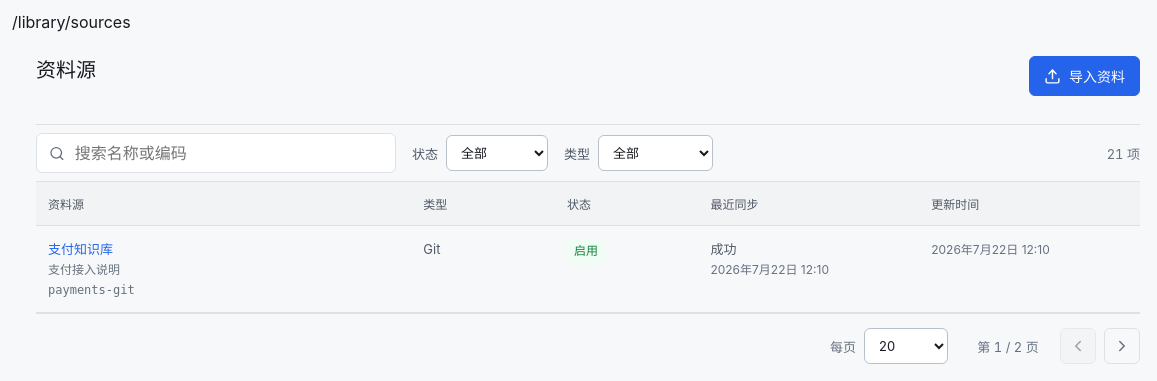
Scenario: source list page › writes filters and page changes to the URL and request
This screenshot has width=1157, height=381.
expect the link "支付知识库" is shown: met, box [48,239,113,259]
Type "git" into the search field named "搜索资料源" at (228, 153), box [73,135,383,171]
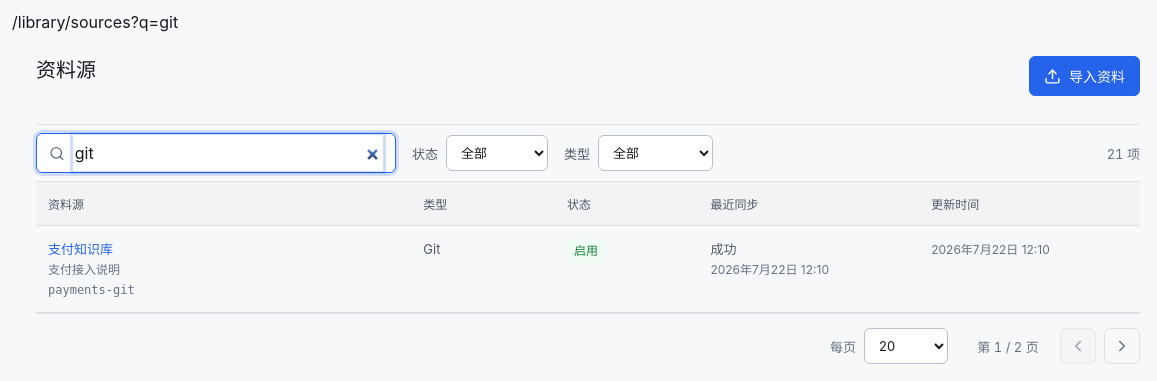
Select "停用" in the dropdown labelled "状态" at (497, 153), box [446,135,548,171]
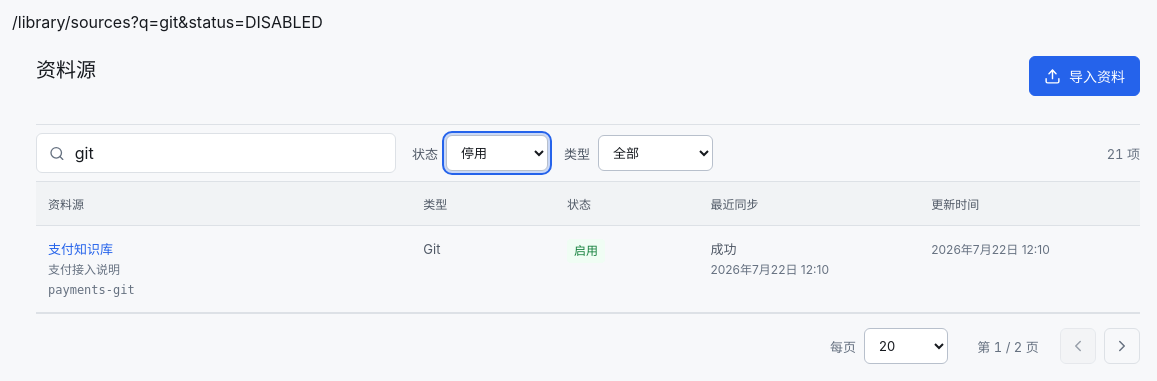
Select "内部镜像" in the dropdown labelled "类型" at (656, 153), box [598,135,713,171]
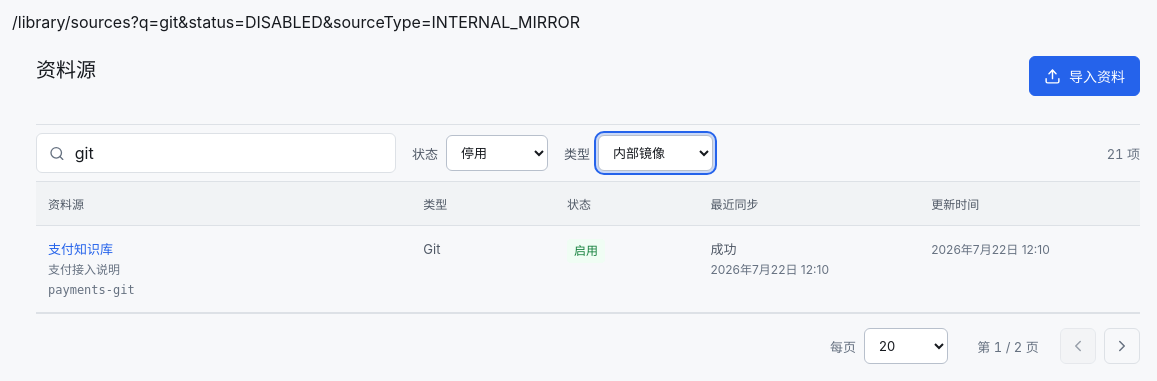
Click the button named "下一页" at (1122, 346), box [1104,328,1140,364]
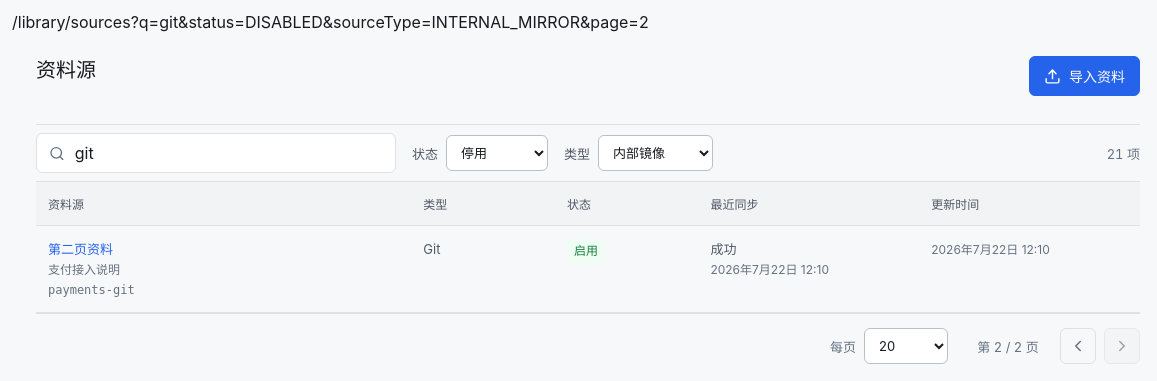
expect the link "第二页资料" is shown: met, box [48,239,113,259]
expect the text named "location" shows "page=2": met, box [131,12,649,32]
